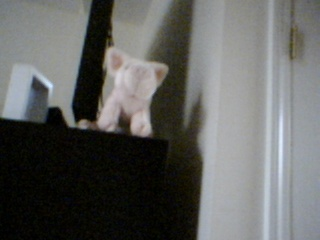piggy: (97, 46, 170, 139)
